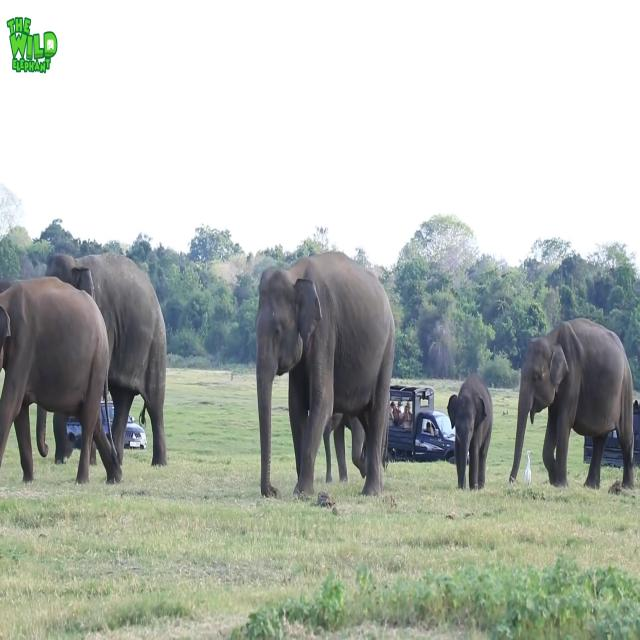Elephant: (254, 250, 396, 501), (37, 251, 167, 471), (0, 275, 123, 486), (508, 317, 635, 490), (447, 372, 492, 491)
